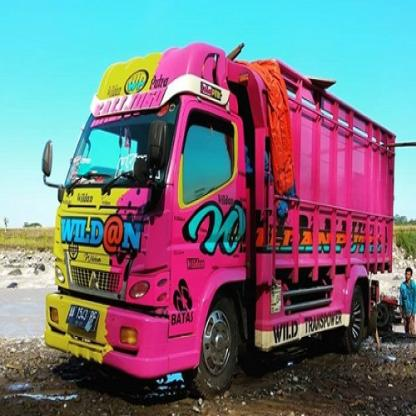truck: (40, 43, 399, 392)
